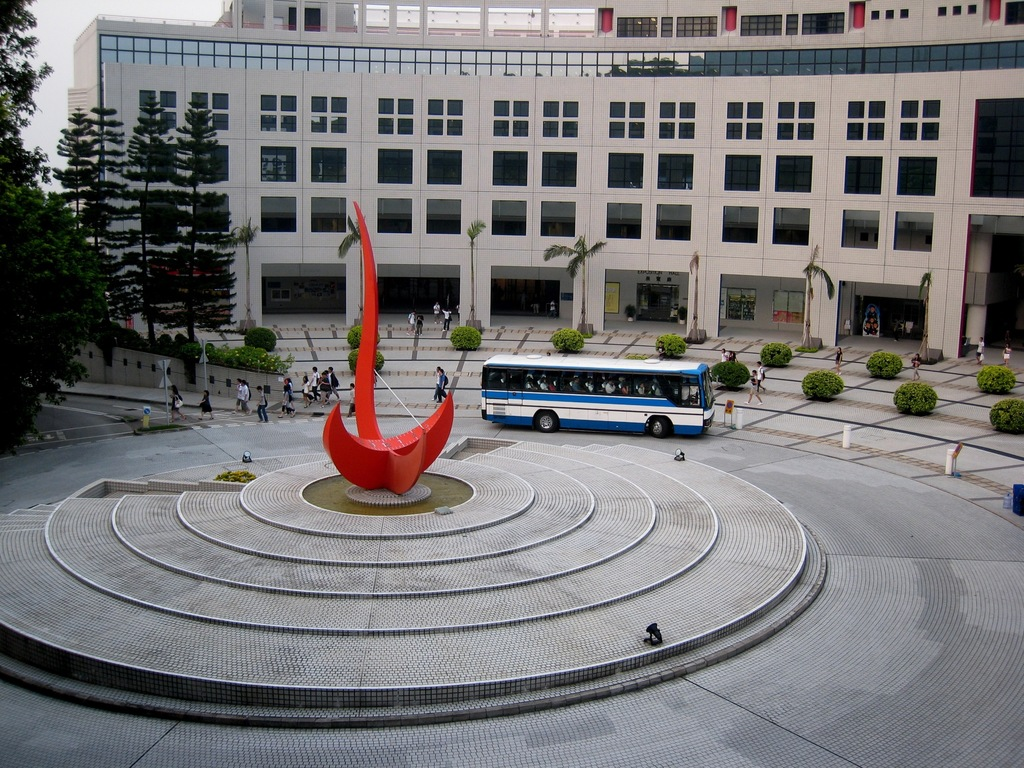Bus: (475, 354, 716, 437)
